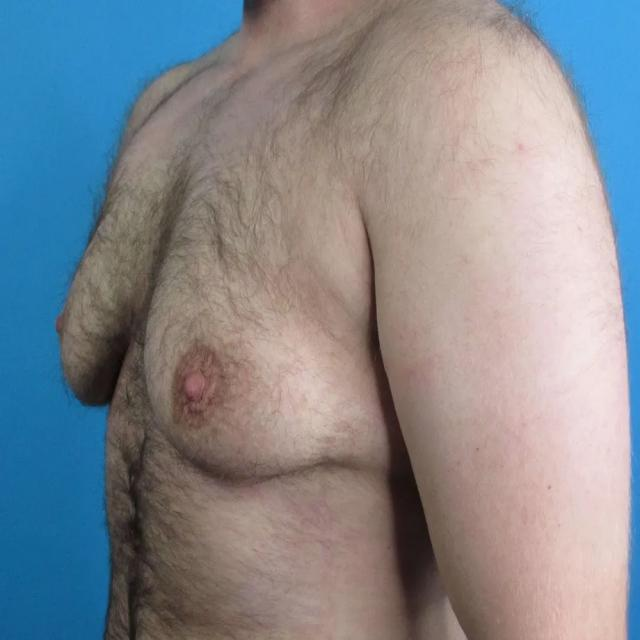Seno ileso: (140, 159, 390, 502), (50, 159, 138, 425)
